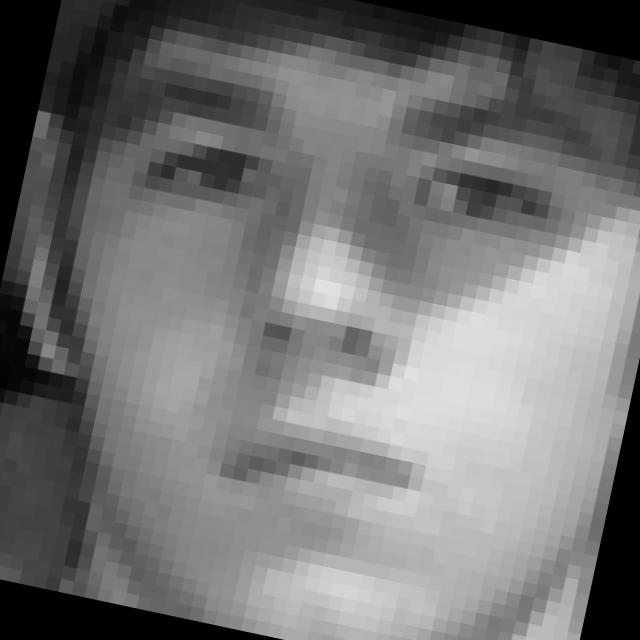neutral: (41, 15, 614, 578)
